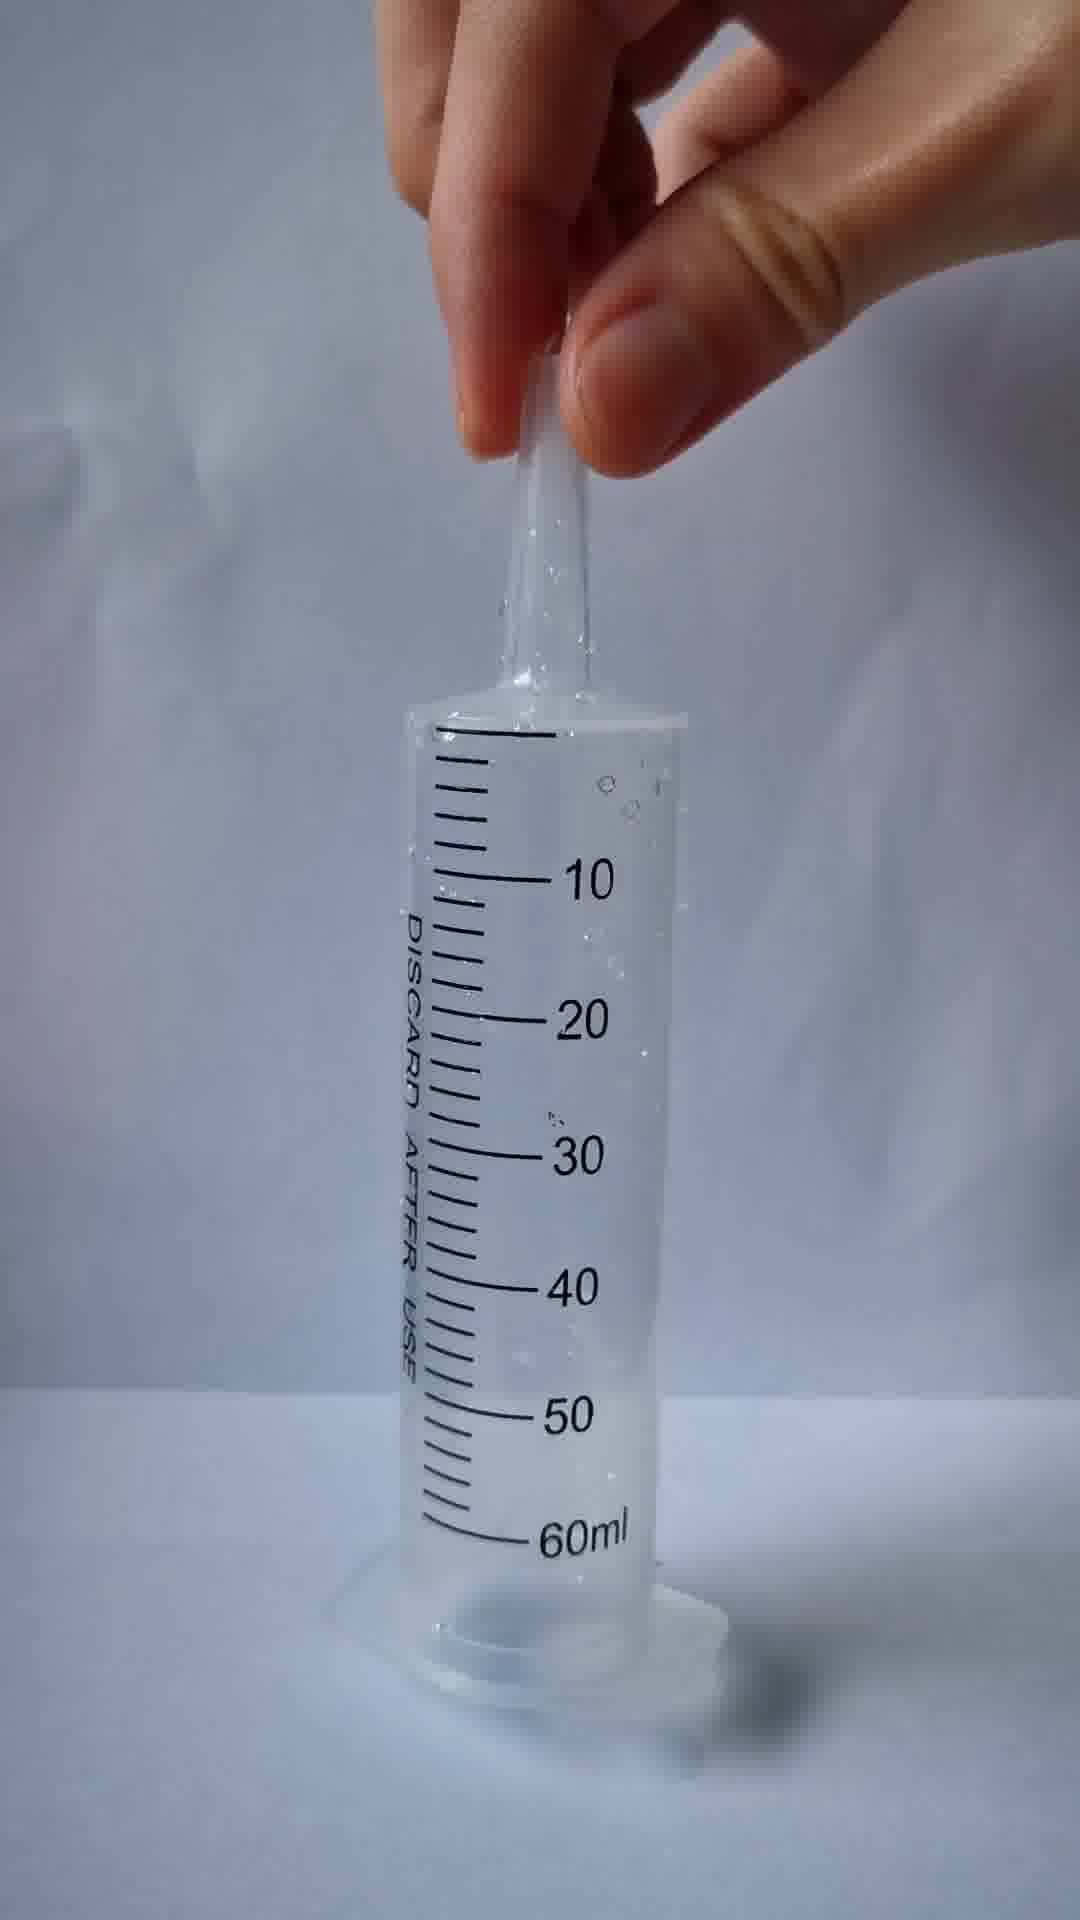syringe: (313, 353, 731, 1712)
